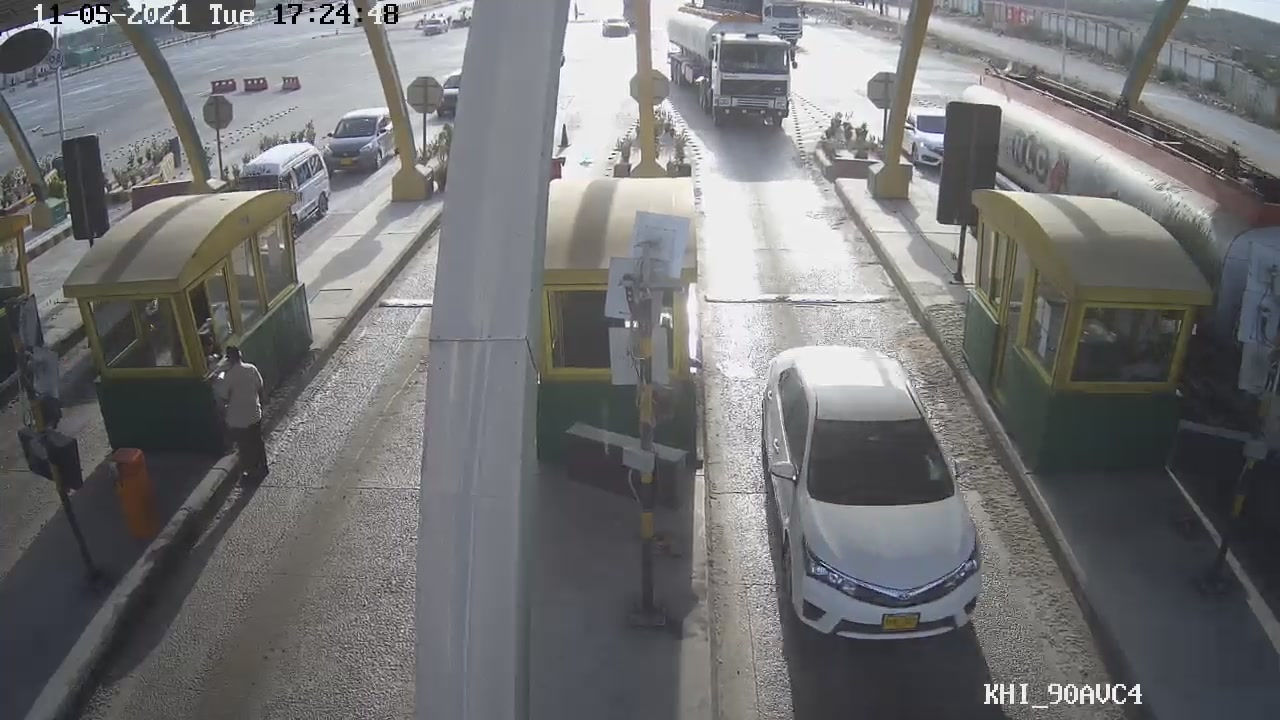F1: (756, 339, 1007, 648)
